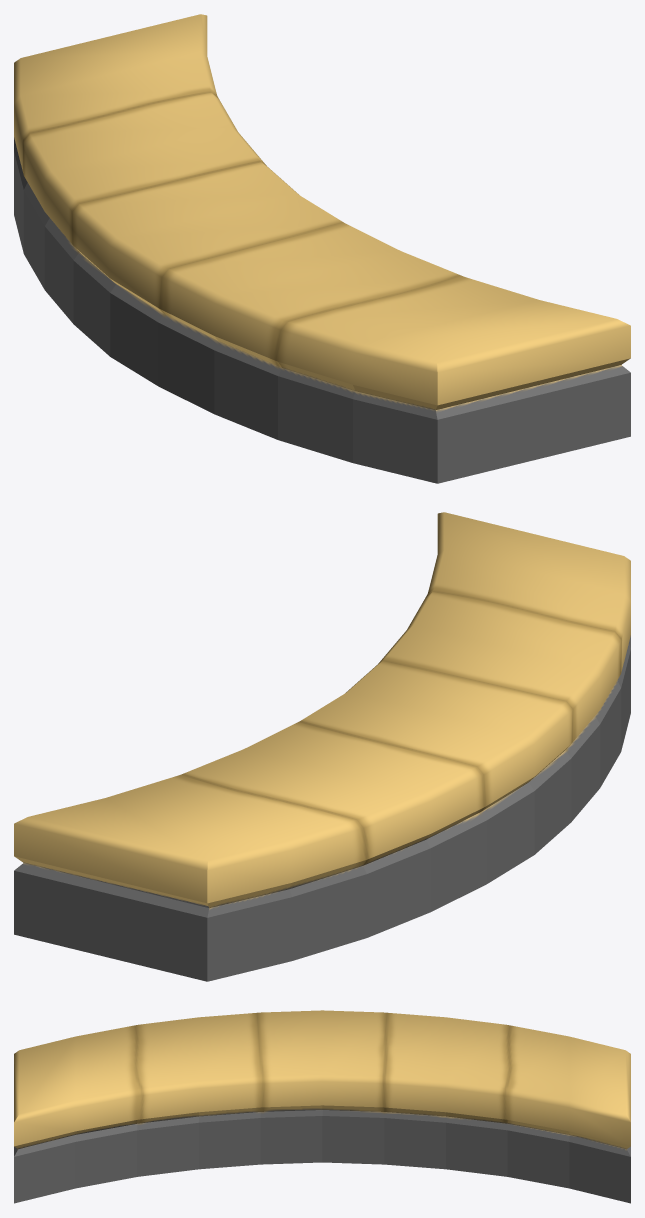
Rendered from sofa.glb.
The picture shows the model from 3 angles, top to bottom: view 1: azimuth 30°, elevation 25°; view 2: azimuth 150°, elevation 25°; view 3: azimuth 270°, elevation 25°; orthographic projection. The views are drawn at different scales.
Visible parts, largest first — view 1: Seating; view 2: Seating; view 3: Seating.
Boxes of the visible parts, bbox=[...] form: Seating: bbox=[14, 14, 630, 483]; Seating: bbox=[14, 512, 630, 981]; Seating: bbox=[14, 1010, 630, 1203].
Size of the model in its own units: 3.19 by 1.16 by 7.59.
Materials: 1 (1 with a texture image).
